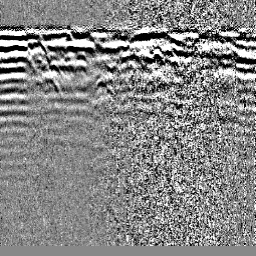cavity: (148, 44, 164, 64)
